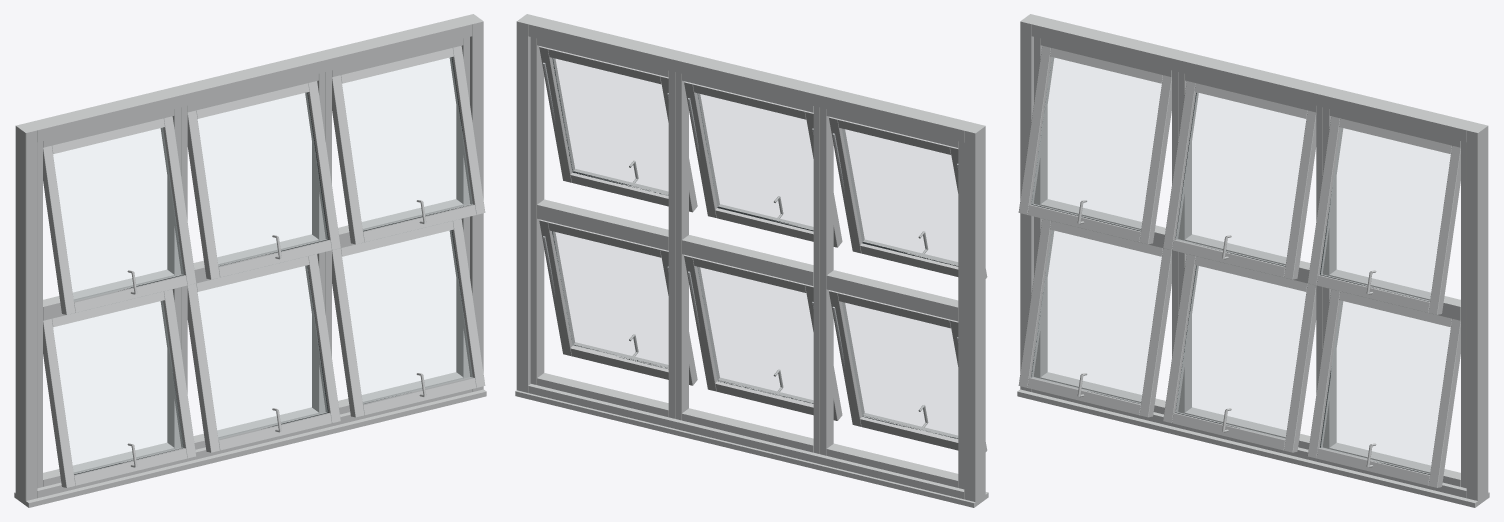
File: white-six-panel-awning-window-with-screens-02.glb
3 renders of one model, left to right at view 1: azimuth 30°, elevation 25°; view 2: azimuth 150°, elevation 25°; view 3: azimuth 330°, elevation 25°, orthographic.
Parts seen in each view (by area): view 1: Window / Awning leaf glass, Window / Awning leaf sash, Window / Outer jamb, Window / Awning opening, Window / Sill extrusion, Window / Awning leaf glazing gasket; view 2: Window / Awning leaf glass, Window / Awning opening, Window / Awning leaf sash, Window / Outer jamb, Window / Sill extrusion, Window / Awning leaf glazing gasket, Window / Friction stay; view 3: Window / Awning leaf glass, Window / Awning leaf sash, Window / Outer jamb, Window / Awning opening, Window / Sill extrusion, Window / Awning leaf glazing gasket.
Boxes of the visible parts, <box> form: Window / Awning leaf glass: <box>54,58,471,473</box>; Window / Awning leaf sash: <box>43,45,485,487</box>; Window / Outer jamb: <box>15,14,483,505</box>; Window / Awning opening: <box>37,37,469,488</box>; Window / Sill extrusion: <box>14,389,486,507</box>; Window / Awning leaf glazing gasket: <box>74,57,471,474</box>; Window / Awning leaf glass: <box>553,58,957,438</box>; Window / Awning opening: <box>530,37,964,489</box>; Window / Awning leaf sash: <box>539,46,987,451</box>; Window / Outer jamb: <box>516,14,985,505</box>; Window / Sill extrusion: <box>515,390,988,507</box>; Window / Awning leaf glazing gasket: <box>552,58,958,438</box>; Window / Friction stay: <box>543,62,958,368</box>; Window / Awning leaf glass: <box>1032,58,1449,473</box>; Window / Awning leaf sash: <box>1018,45,1460,487</box>; Window / Outer jamb: <box>1020,14,1488,505</box>; Window / Awning opening: <box>1034,37,1466,488</box>; Window / Sill extrusion: <box>1017,389,1489,507</box>; Window / Awning leaf glazing gasket: <box>1031,70,1429,474</box>.
Bounding box in the file's own units: 1.8 × 1.4 × 0.2591.
